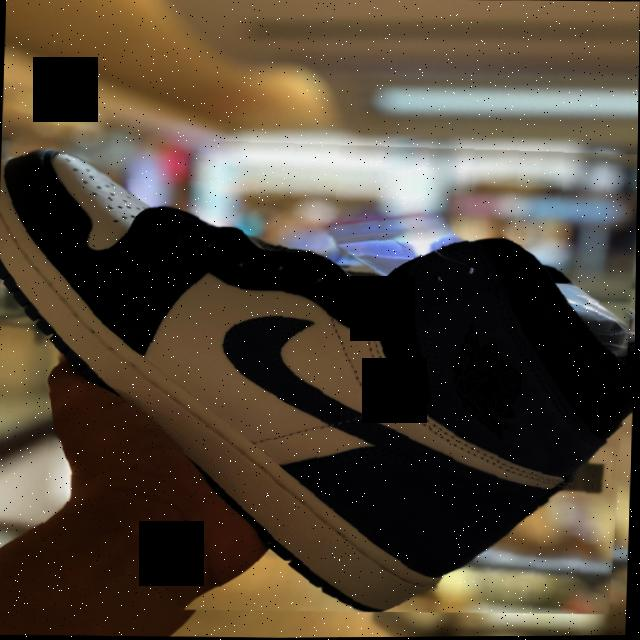shoe: (0, 129, 638, 618)
